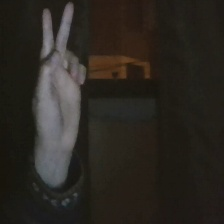K: (27, 1, 97, 157)
